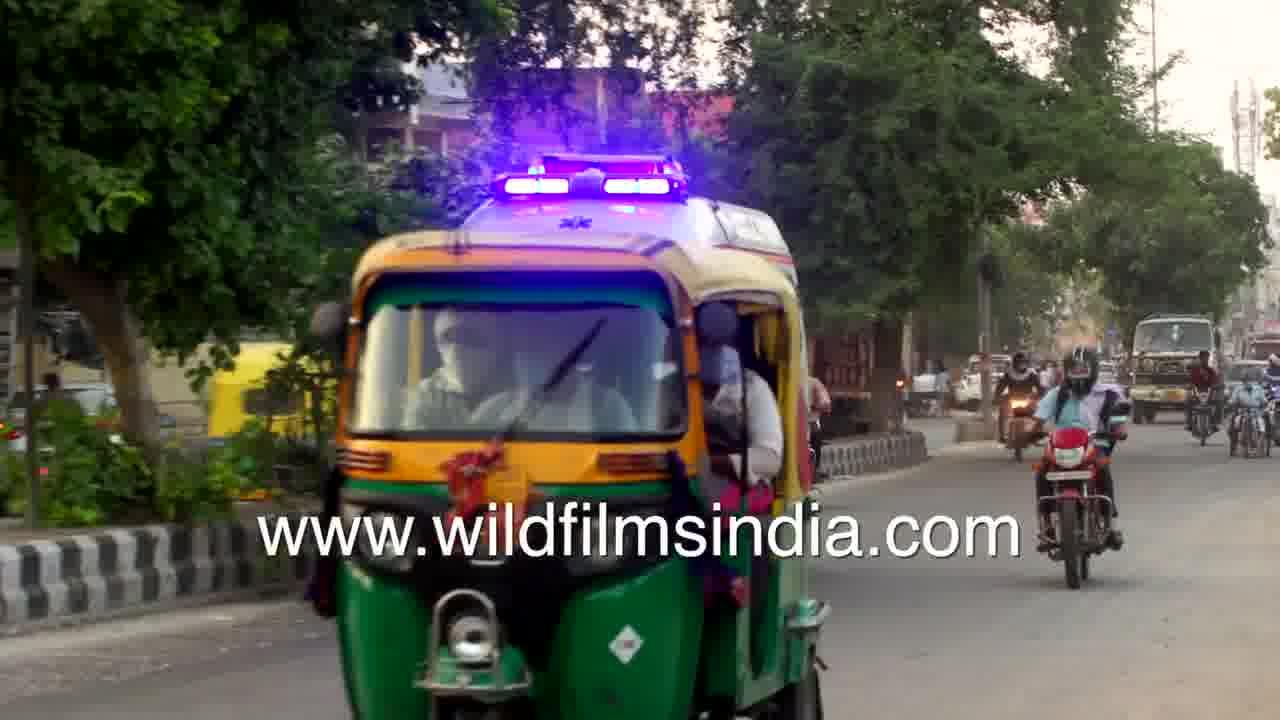AMBULANCE: (415, 145, 832, 249)
